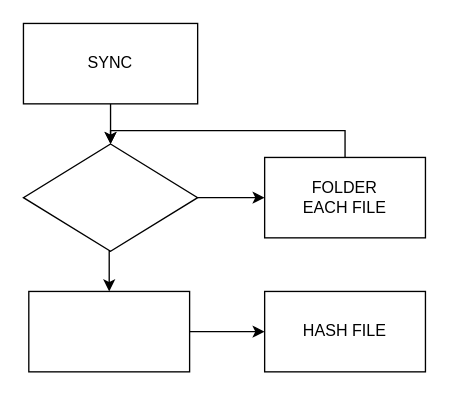
Some shapes in this 449 by 395 pixel diagram are drawn without their labels. Here are the shapes that lost their labels. From the top down, the centre of each, then its label:
At point (110, 197): "IF FOLDER?".
At point (108, 331): "FILE".
